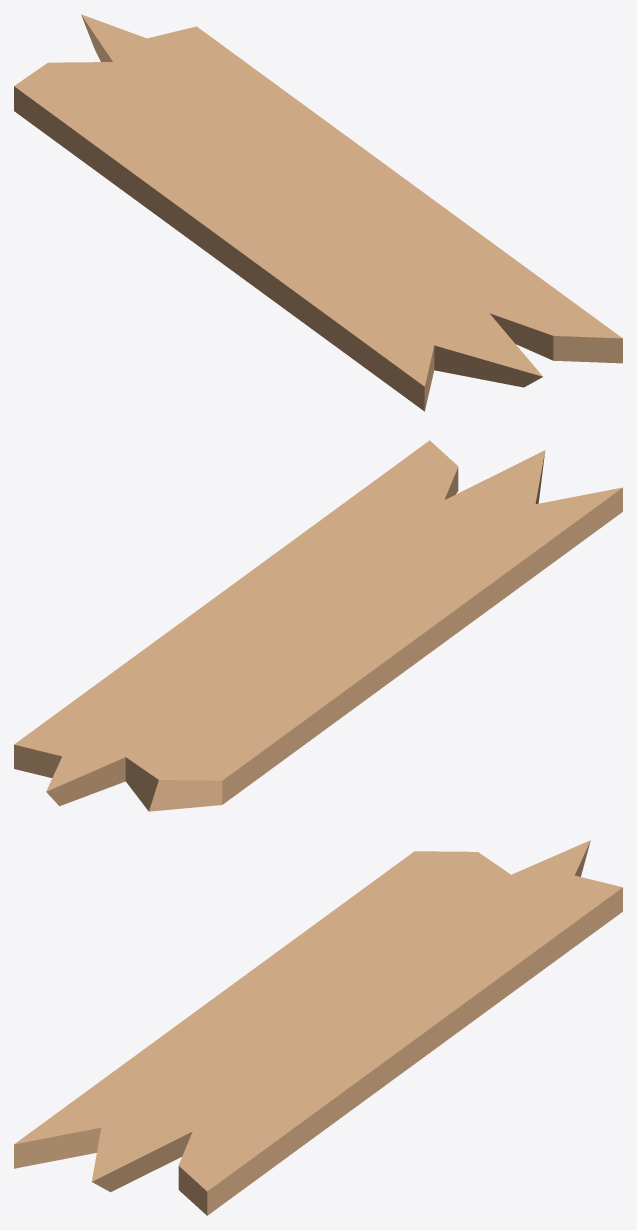
File: planche morceau bois.fbx
The picture shows the model from 3 angles, top to bottom: view 1: azimuth 30°, elevation 25°; view 2: azimuth 150°, elevation 25°; view 3: azimuth 330°, elevation 25°; orthographic projection. The views are drawn at different scales.
Visible parts, largest first — view 1: entrepot dechets 6.001; view 2: entrepot dechets 6.001; view 3: entrepot dechets 6.001.
Part boxes in pixels (x1=…): entrepot dechets 6.001: x1=14, y1=14, x2=622, y2=411; entrepot dechets 6.001: x1=14, y1=440, x2=622, y2=811; entrepot dechets 6.001: x1=14, y1=840, x2=622, y2=1215.
Size of the model in its own units: 128 by 15.35 by 544.
